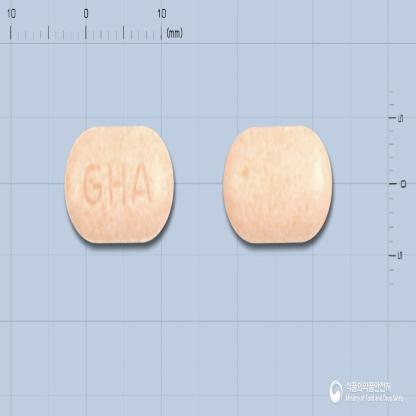pill: (62, 124, 175, 245), (221, 125, 334, 243)
